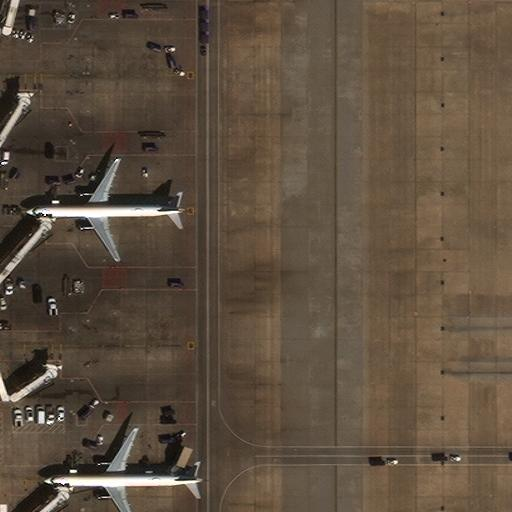Medium Civil Transport: (24, 158, 185, 261), (43, 428, 203, 512)
